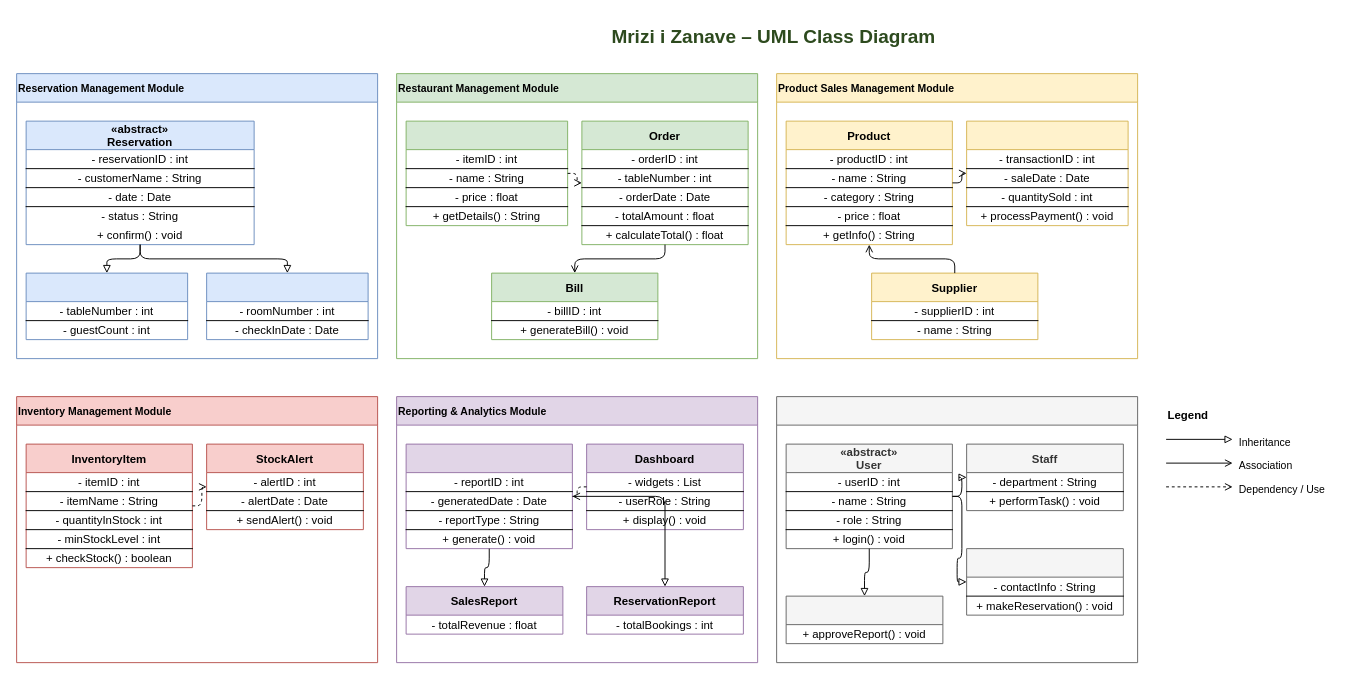
Some shapes in this 1368 by 679 pixel diagram are drawn without their labels. Each missing label, with the box of its shape:
Customer: (966, 548, 1123, 615)
HotelReservation: (206, 272, 368, 340)
Manager: (785, 595, 943, 644)
MenuItem: (405, 120, 568, 226)
RestaurantReservation: (25, 272, 188, 340)
SaleTransaction: (966, 120, 1128, 226)
Stakeholders: (776, 396, 1138, 663)
«abstract» Report: (405, 443, 572, 549)
